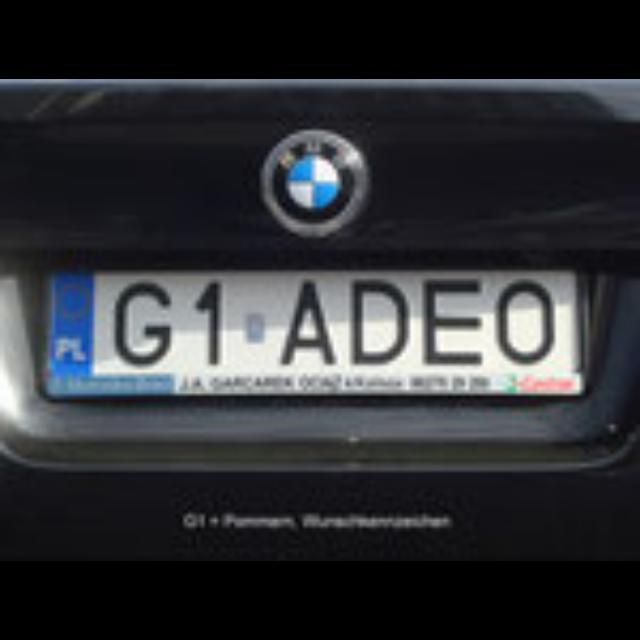license-plates: (45, 271, 586, 399)
